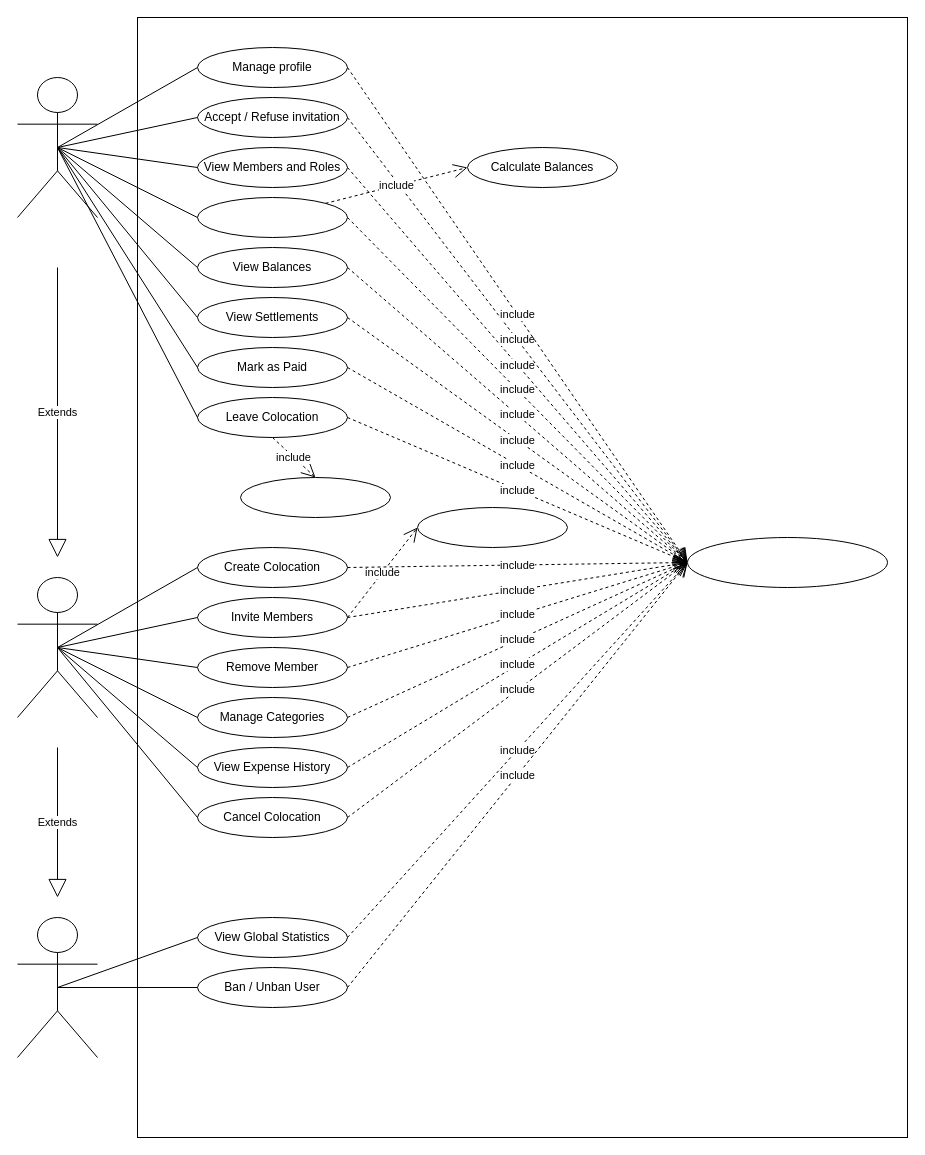
Some shapes in this 925 by 1155 pixel diagram are drawn without their labels. The box of each missing label's shape, as (x1, y1, x2, y2) in pixels:
Add Expense: (196, 196, 348, 238)
Admin: (16, 916, 98, 1058)
Auth: (686, 536, 888, 588)
Member: (16, 76, 98, 218)
Owner: (16, 576, 98, 718)
send invitation email: (416, 506, 568, 548)
Update Repulation Score: (240, 476, 390, 518)
